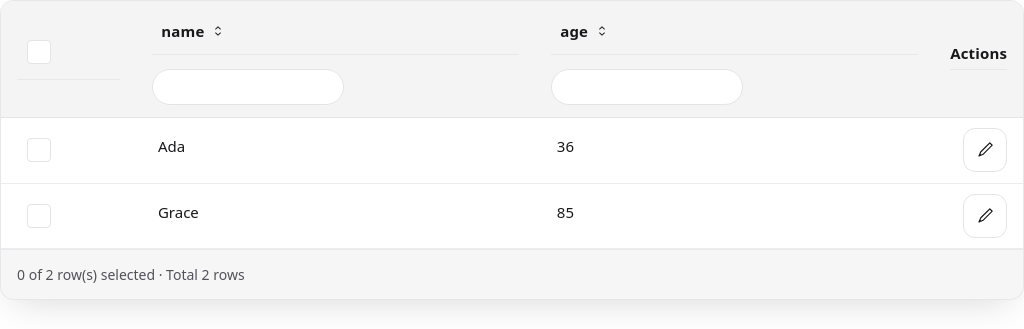
EditableTable › discards edits on Cancel
Check: the row "Ada 36" is shown, box [1,118,1023,184]
Click the button named "Edit row" in the row of "Ada".
click(985, 150)  # box [963,128,1007,172]
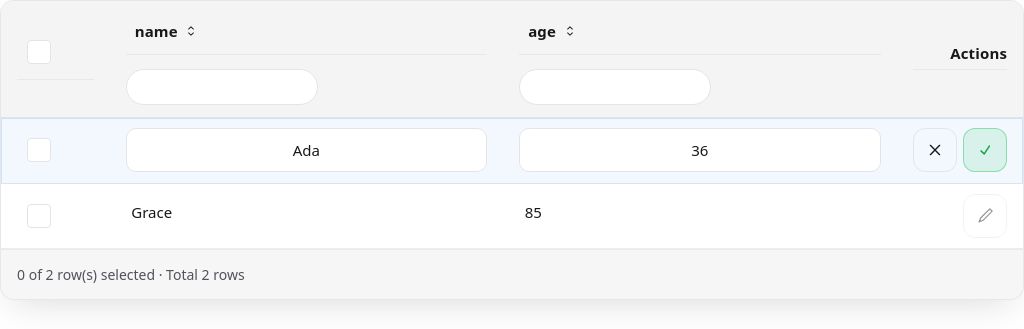
Replace the text in the 3rd field showing "Ada" with "Draft" at (306, 150), box [126,128,487,172]
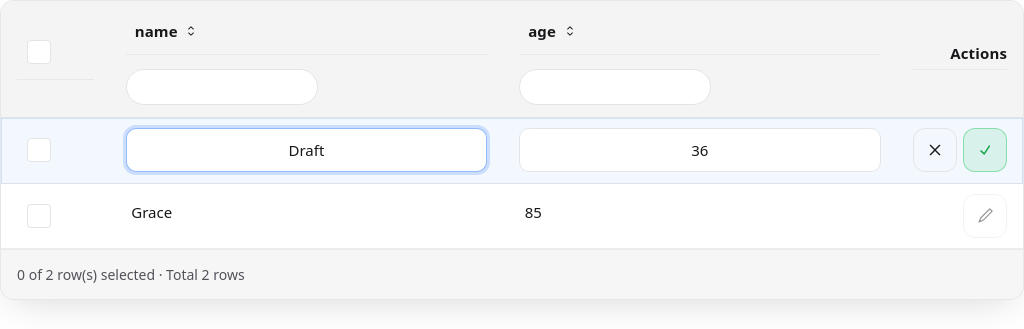
Click the button named "Cancel row edits".
click(935, 150)  # box [913,128,957,172]
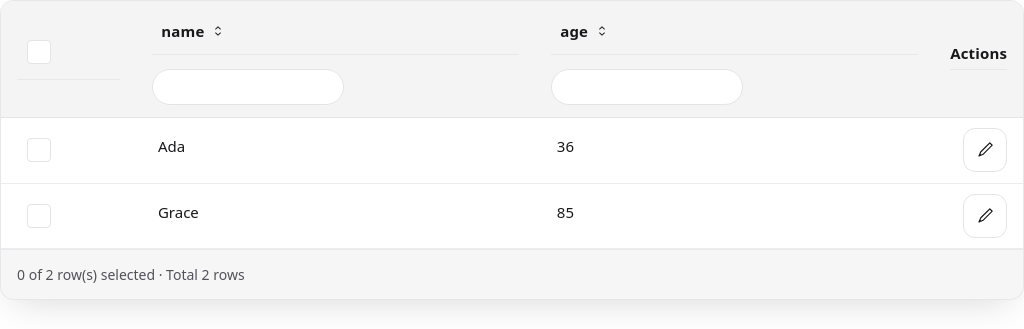
Check: the text "Ada" is shown, box [158,136,185,156]
